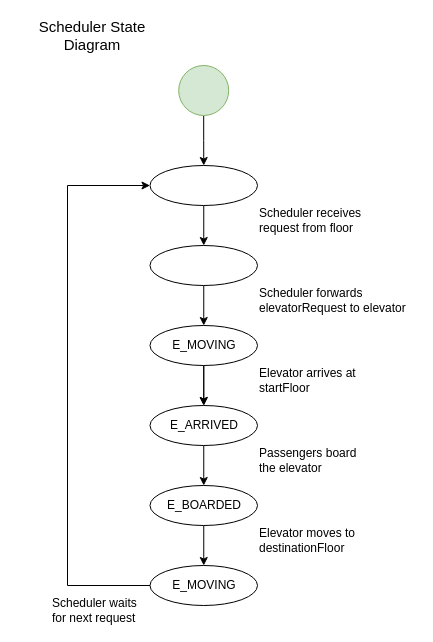
This 433x642 diagram has some shape labels left out. The shapes that lost their labels are listed below. From the top down, each one's centre as x and y in pixels, then its label:
At point (203, 185): "IDLE".
At point (203, 265): "E_REQUESTED".
